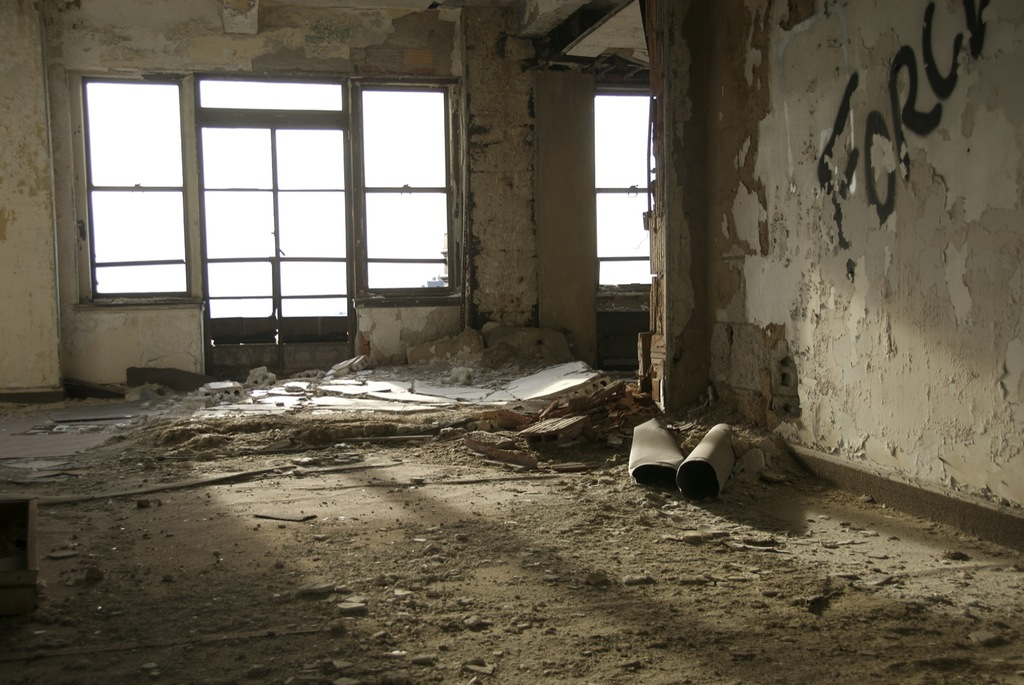Window: (62, 69, 470, 308), (597, 96, 657, 302)
